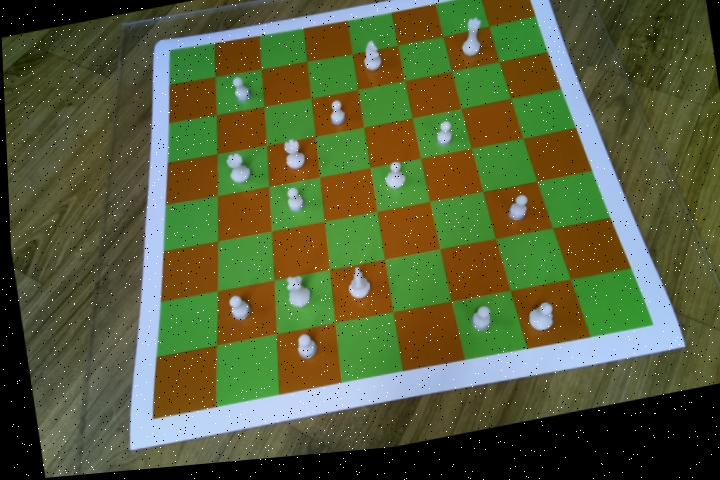chessboard-detect: (148, 0, 650, 423)
